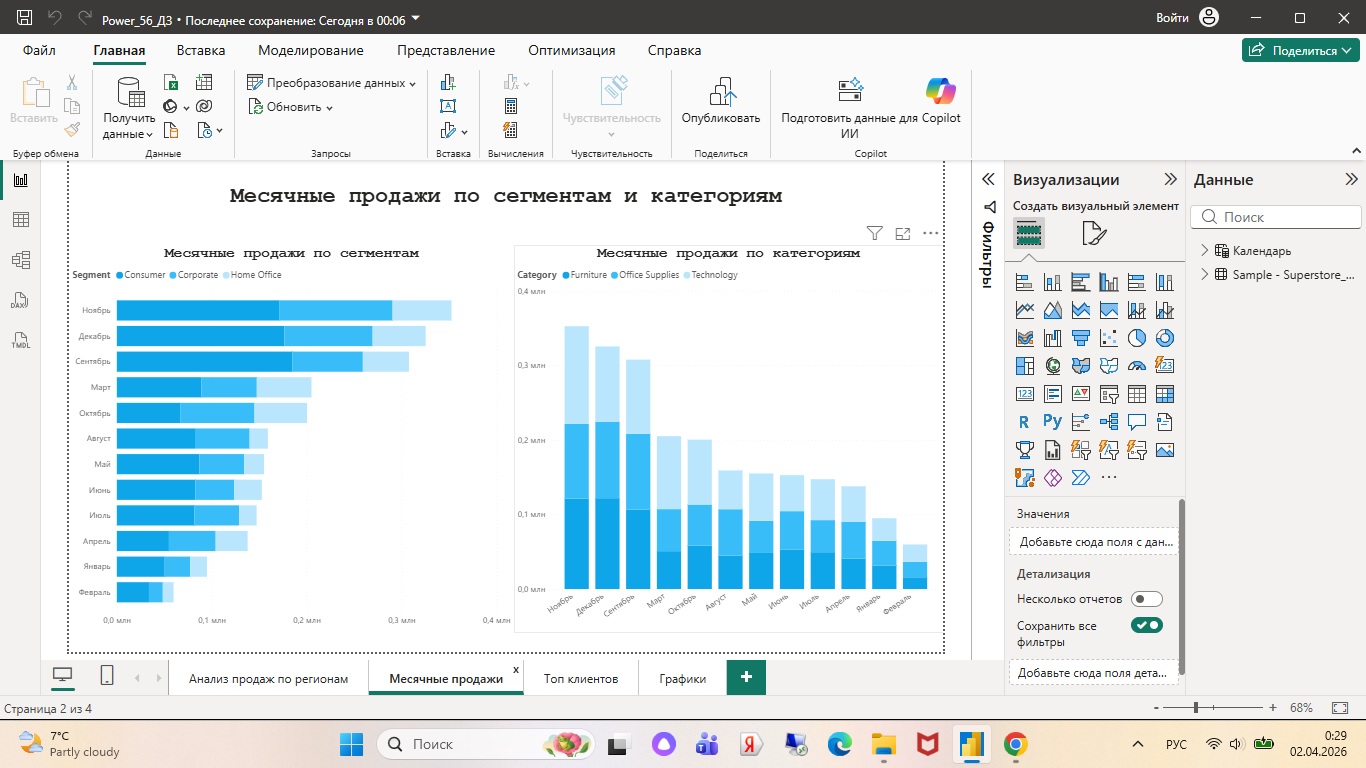

This screenshot's page, from the dashboard's own definition file:
{"tool":"powerbi","page":{"name":"Месячные продажи","canvas":[1280,720],"ordinal":1},"visuals":[{"type":"barChart","title":"Месячные продажи по сегментам","fields":{"Series":["Sample - Superstore_Orders.Segment"],"Category":["Календарь.Месяц"],"Y":["Sum(Sample - Superstore_Orders.Sales)"]},"box":[0,124.3,651.8,567.8],"z":0},{"type":"columnChart","title":"Месячные продажи по категориям","fields":{"Category":["Календарь.Месяц"],"Y":["Sum(Sample - Superstore_Orders.Sales)"],"Series":["Sample - Superstore_Orders.Category"]},"box":[651.8,124.3,628.2,567.8],"z":1000},{"type":"textbox","box":[137.7,28.6,1004.5,72.2],"z":2000}]}

Visuals, with their boxes on the page's 1280x720 design canvas (x1, y1, x2, y2). These are canvas units, not pixel positions in the 1366x768 screenshot, which may show the page scaled, cropped or inside an application window:
"Месячные продажи по сегментам" barChart: locate(0, 124, 652, 692)
"Месячные продажи по категориям" columnChart: locate(652, 124, 1280, 692)
textbox: locate(138, 29, 1142, 101)
